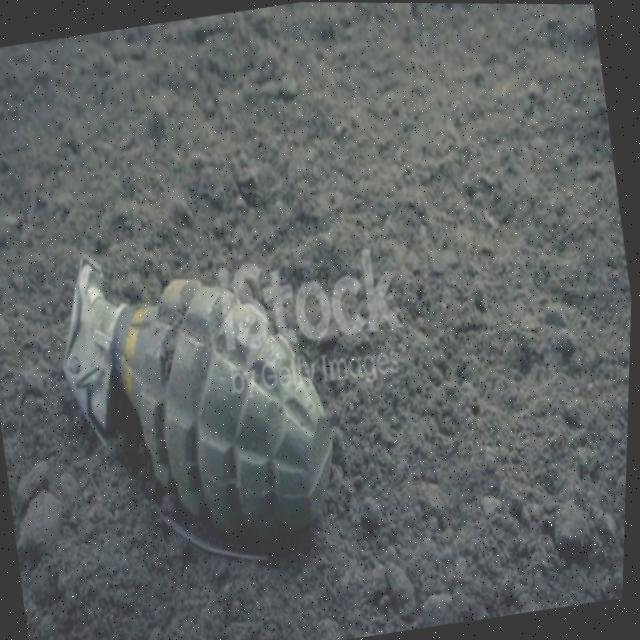grenade: (34, 215, 370, 604)
